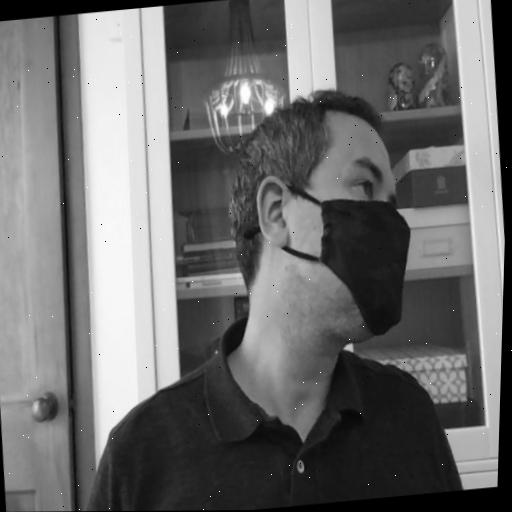mask: (217, 81, 425, 360)
